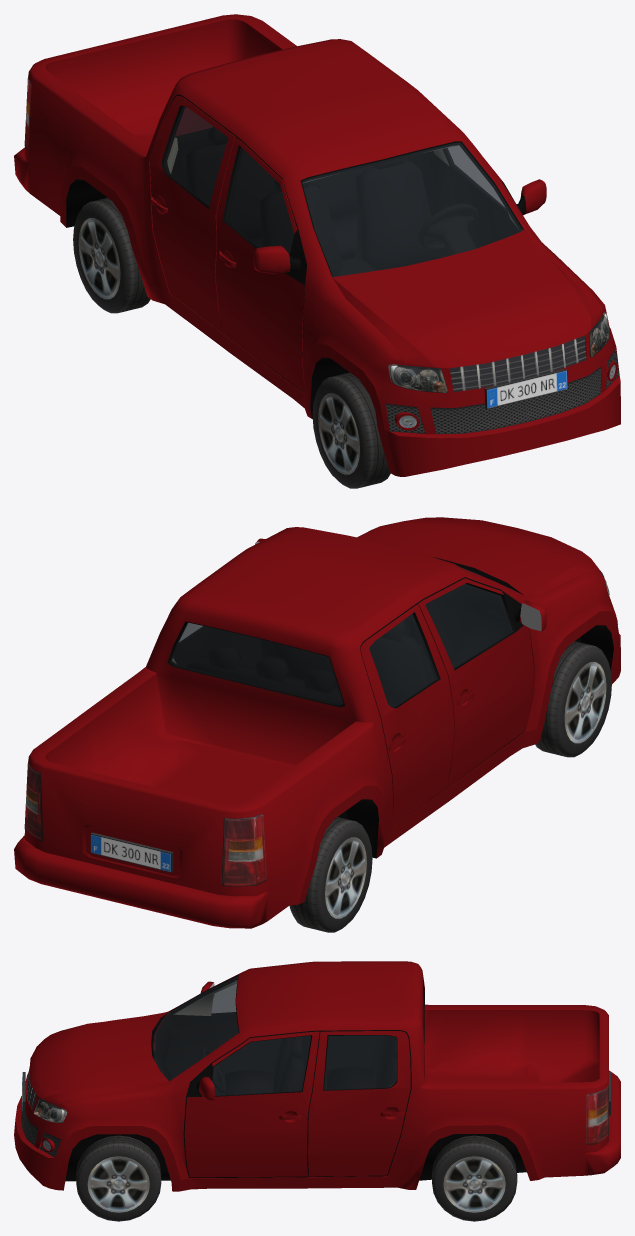
File: pickup.obj
The picture shows the model from 3 angles, top to bottom: view 1: azimuth 30°, elevation 25°; view 2: azimuth 150°, elevation 25°; view 3: azimuth 270°, elevation 25°; orthographic projection. The views are drawn at different scales.
Parts seen in each view (by area): view 1: Pickup_Cube, Seating_Cube.005, wheels_Cylinder, Interior_Cube.007, SteeringWheel_Torus, HeadLights_Cube.009, LicensePlate_Cube.003, Rearview_Plane.002; view 2: Pickup_Cube, wheels_Cylinder, Seating_Cube.005, Interior_Cube.007, LicensePlate_Cube.003; view 3: Pickup_Cube, wheels_Cylinder, Interior_Cube.007, Seating_Cube.005, HeadLights_Cube.009, Rearview_Plane.002.
Boxes of the visible parts, box(x1,y1,x2,y2) form: Pickup_Cube: box(14, 14, 620, 476); Seating_Cube.005: box(185, 126, 439, 276); wheels_Cylinder: box(73, 197, 390, 488); Interior_Cube.007: box(164, 107, 521, 276); SteeringWheel_Torus: box(418, 203, 478, 254); HeadLights_Cube.009: box(388, 312, 609, 393); LicensePlate_Cube.003: box(484, 368, 567, 409); Rearview_Plane.002: box(253, 179, 546, 274); Pickup_Cube: box(14, 517, 620, 928); wheels_Cylinder: box(289, 641, 611, 932); Seating_Cube.005: box(186, 620, 431, 707); Interior_Cube.007: box(170, 584, 512, 707); LicensePlate_Cube.003: box(90, 832, 173, 872); Pickup_Cube: box(14, 961, 620, 1191); wheels_Cylinder: box(76, 1135, 517, 1221); Interior_Cube.007: box(153, 976, 423, 1095); Seating_Cube.005: box(225, 1035, 396, 1095); HeadLights_Cube.009: box(33, 1098, 67, 1122); Rearview_Plane.002: box(196, 981, 214, 1100).
Size of the model in its own units: 215 by 181 by 524.
